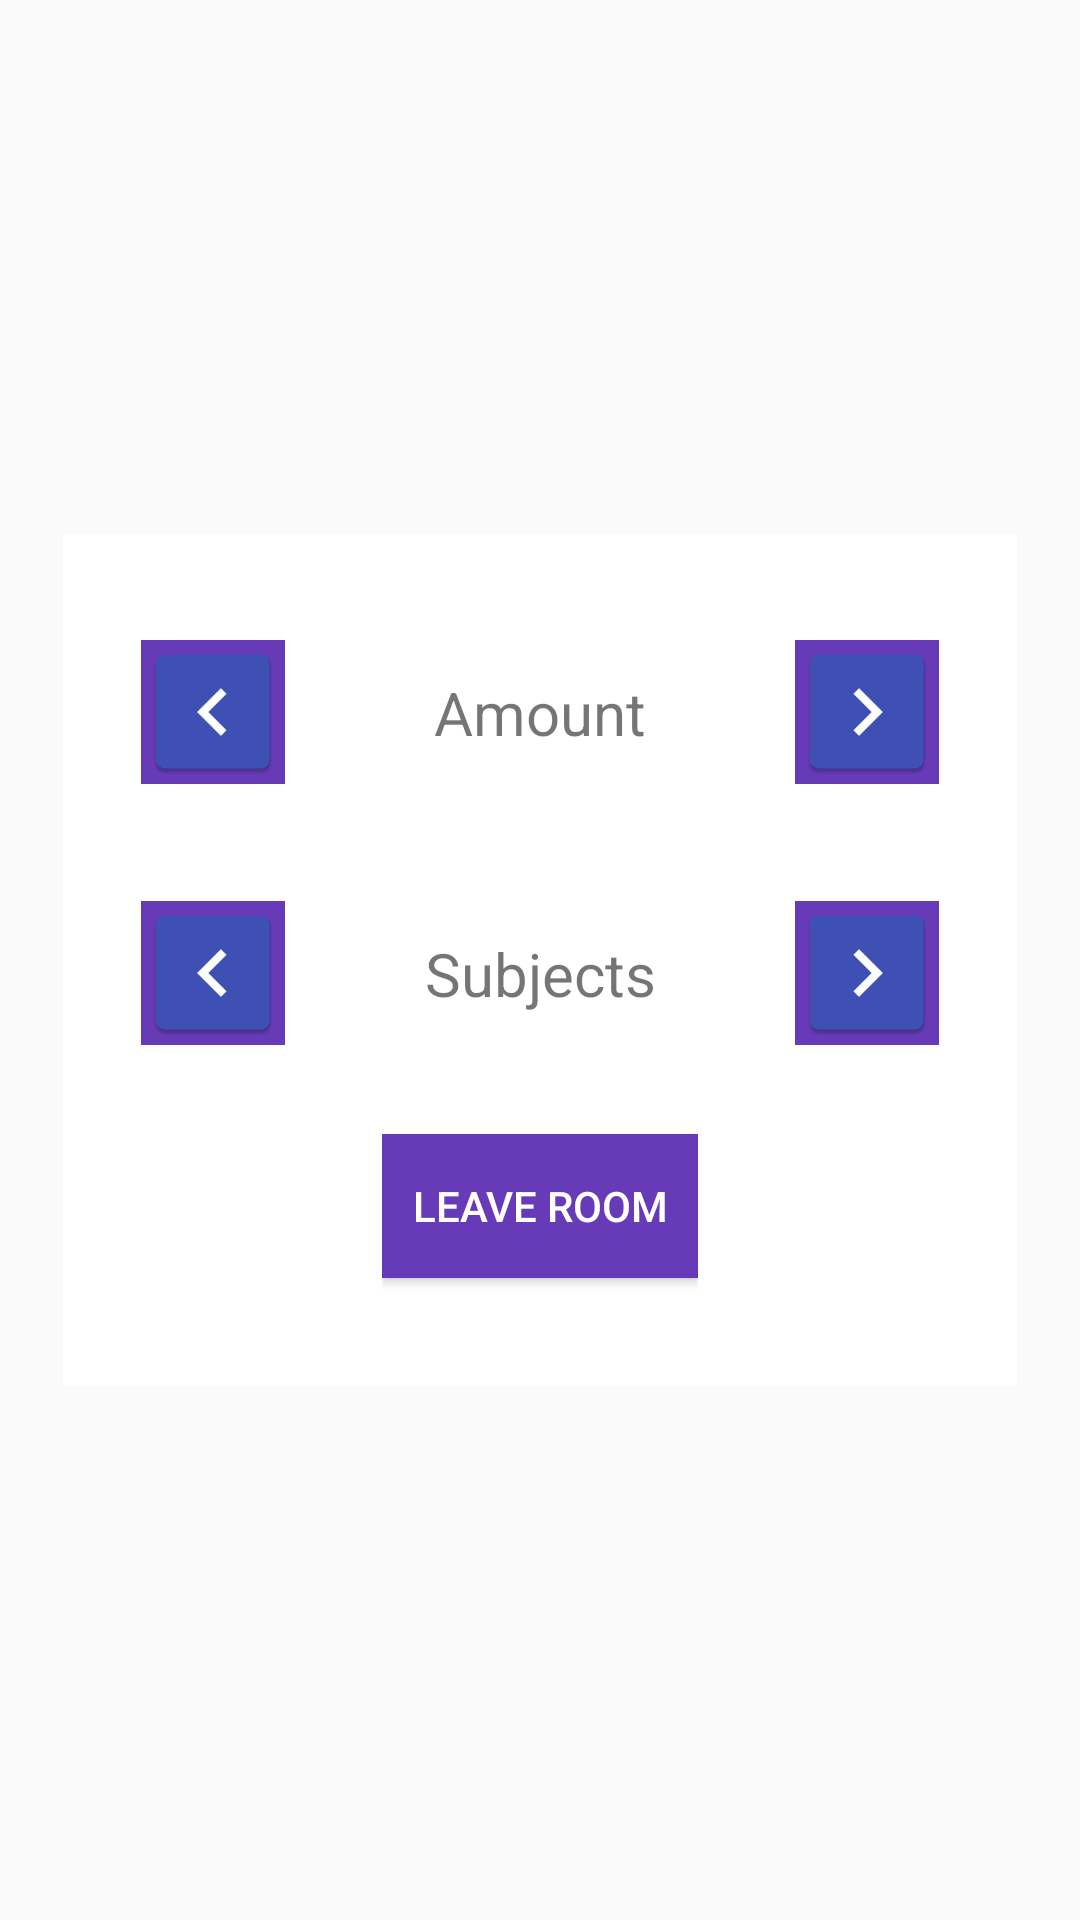

Where icons sit on this 1080*1920 app screen, as (x1, y1, x2, y2):
move backward: (141, 640, 285, 784), (141, 901, 285, 1045)
move forward: (795, 640, 939, 784), (795, 901, 939, 1045)
